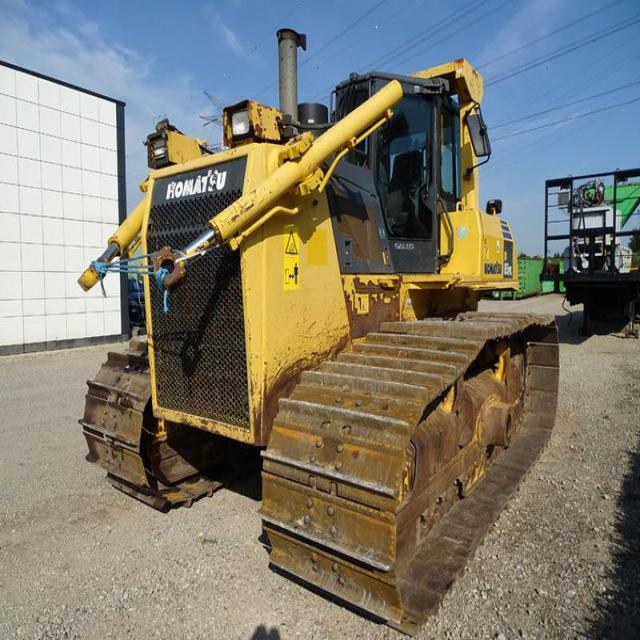buldozerpayloadergrader: (90, 59, 588, 616)
